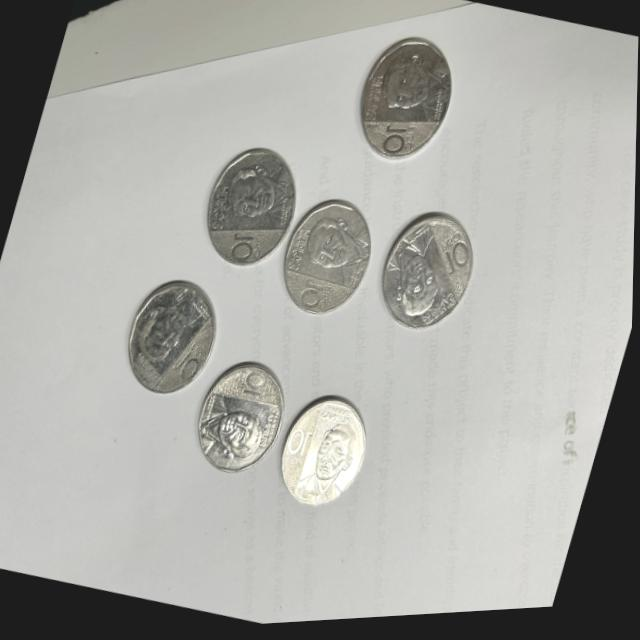10_New_Front: (429, 228, 478, 288), (370, 118, 426, 169), (169, 339, 219, 395), (279, 425, 315, 480), (291, 274, 337, 317), (224, 226, 268, 267), (228, 369, 274, 408)
